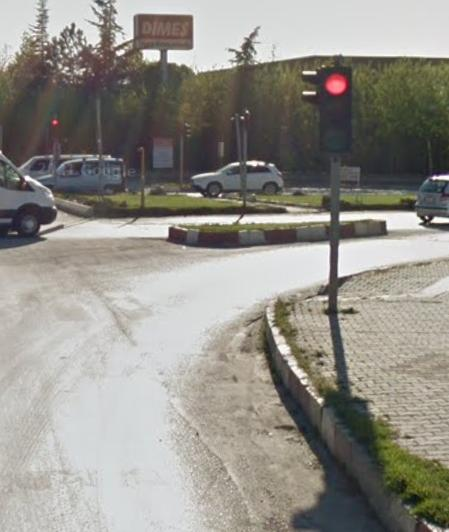redlight: (320, 68, 355, 156), (49, 103, 62, 134)
